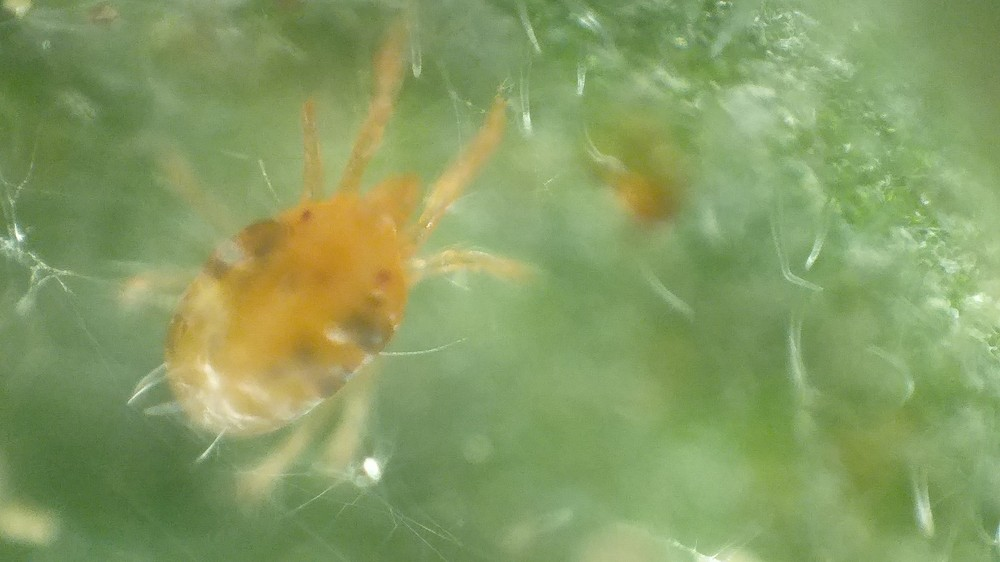Aracnido Rojo: (134, 35, 558, 503)
